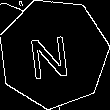N_N: (31, 26, 76, 81)
